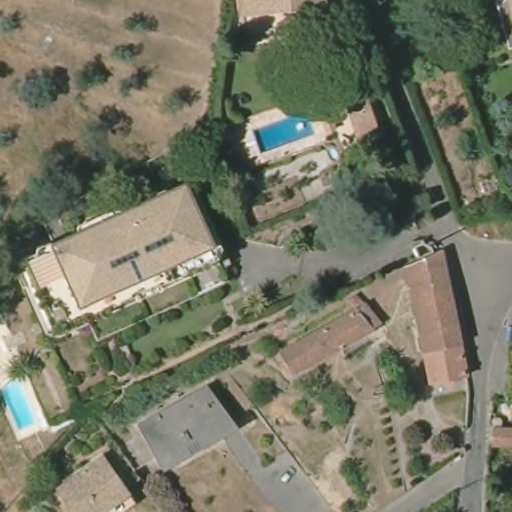pool: (250, 112, 316, 154), (1, 376, 43, 433)
